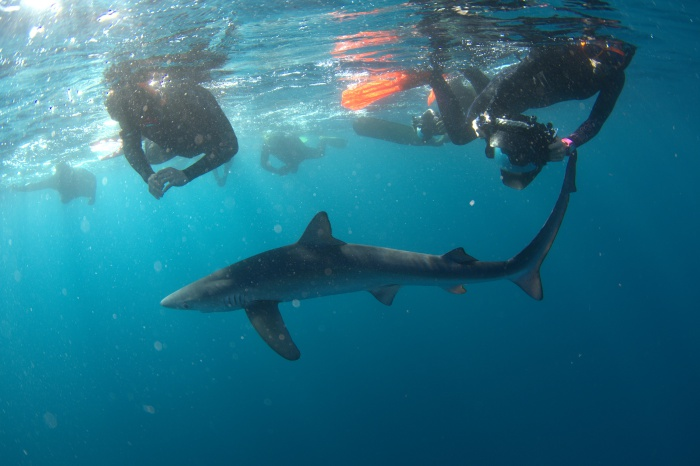Azul: (142, 210, 582, 364)
